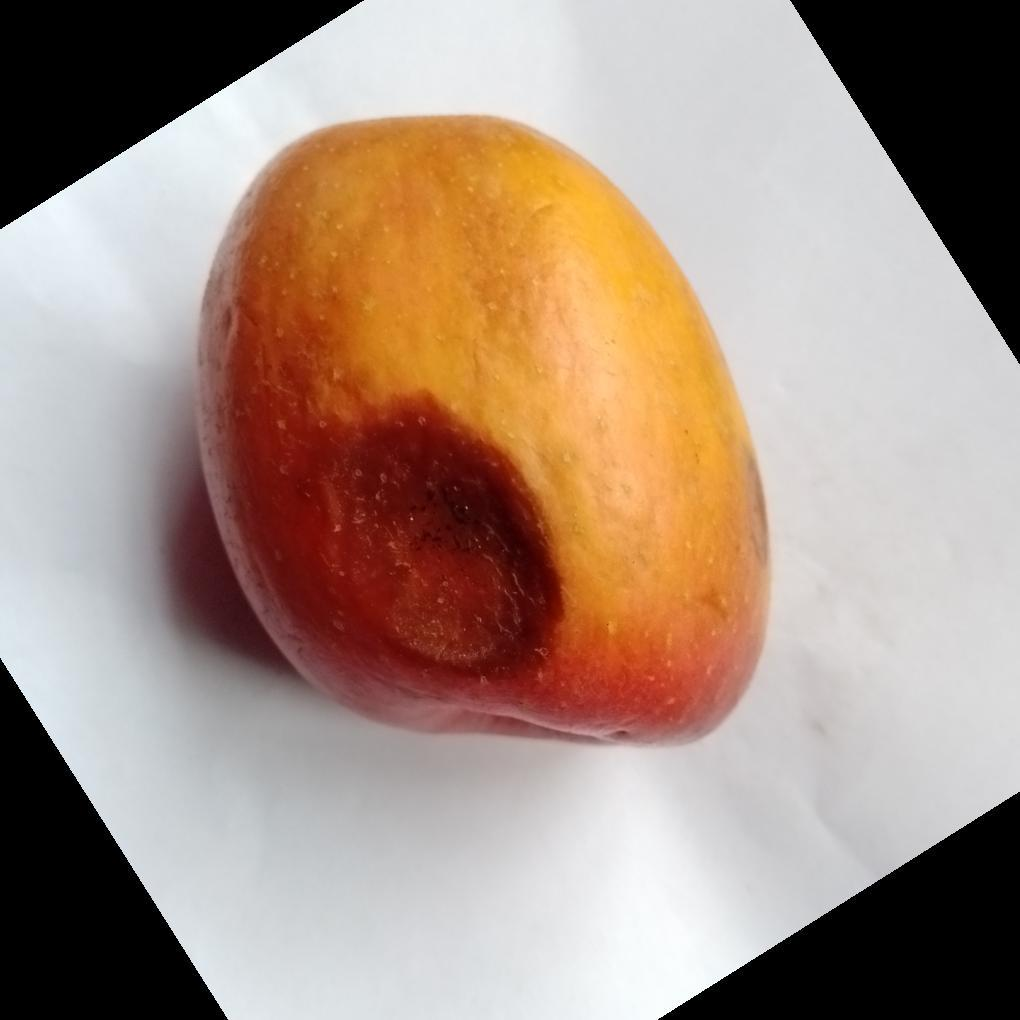FreshOrange: (193, 115, 774, 752)
